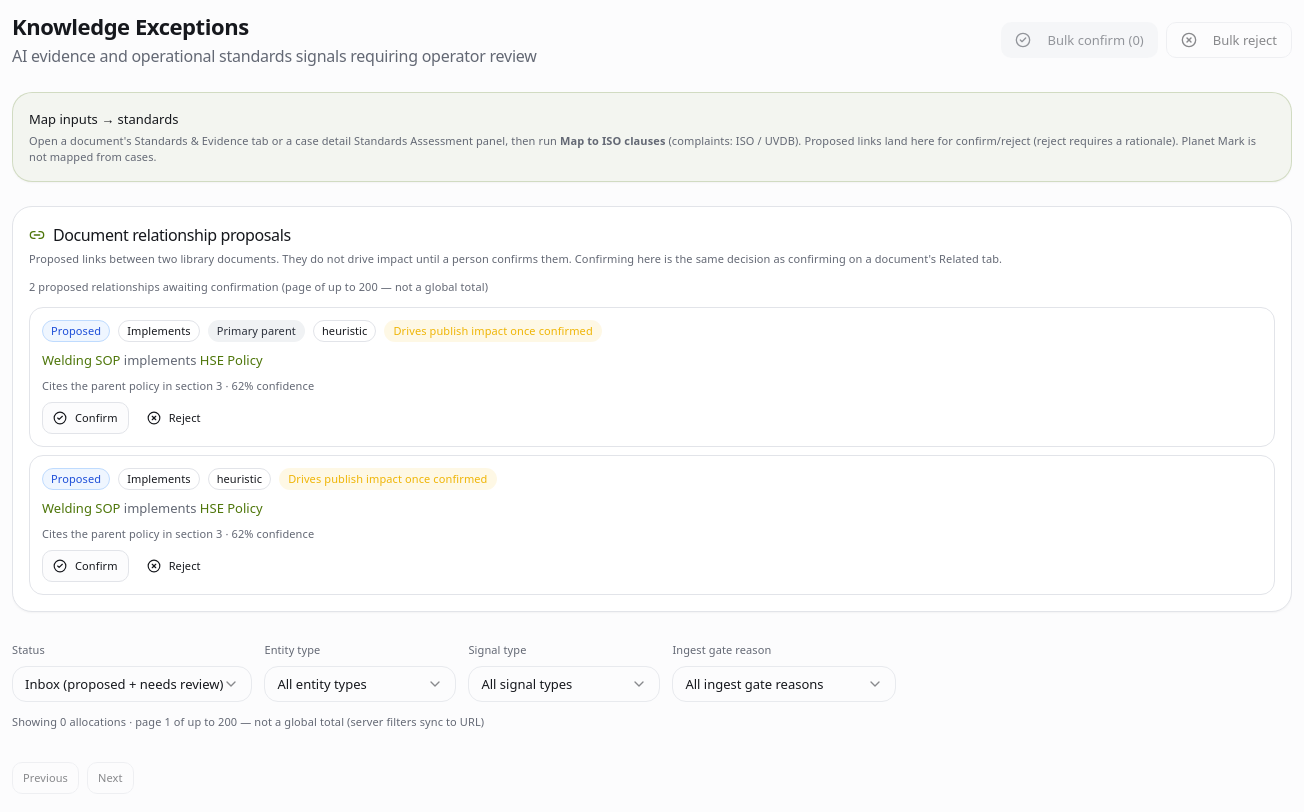
Test: KnowledgeExceptions Doc Graph queue (WE-1) › holds every other decision while one is in flight, so no click lands on a stale list
The image size is (1304, 812).
Click the button with test id "graph-proposal-confirm-31".
click(85, 418)  # box [42, 402, 129, 434]
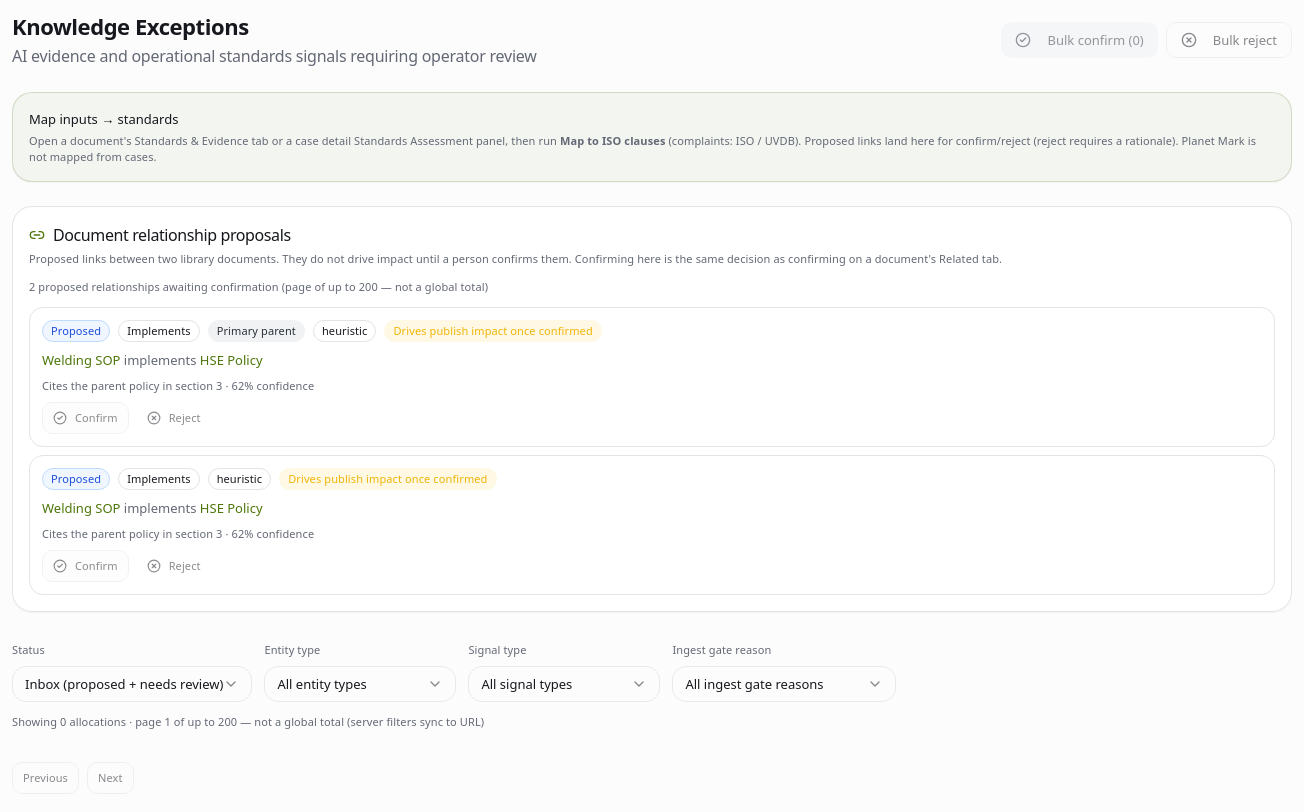
Now the button with test id "graph-proposal-confirm-32" is disabled
Now the button with test id "graph-proposal-reject-32" is disabled, box [137, 550, 211, 582]
Click the button with test id "graph-proposal-confirm-32".
click(85, 566)  # box [42, 550, 129, 582]
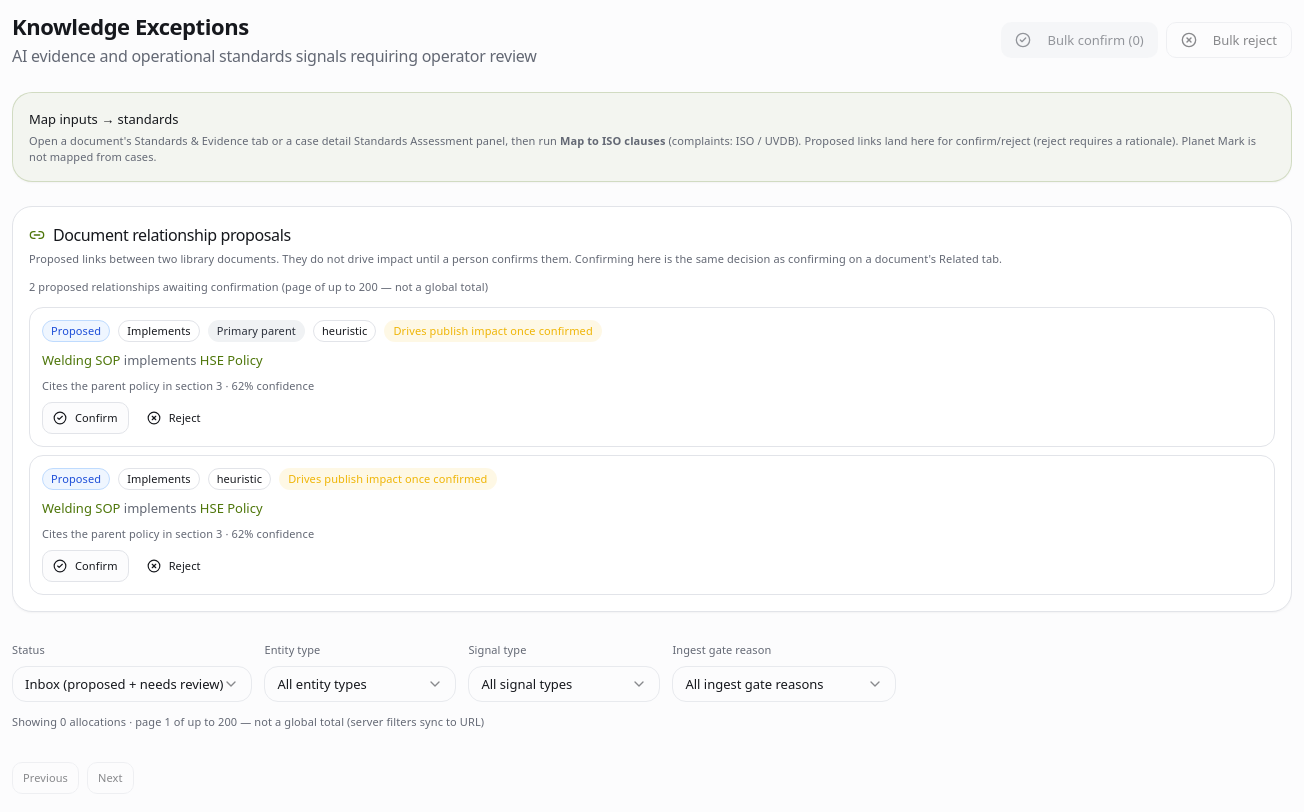
Now the button with test id "graph-proposal-confirm-32" is enabled, box [42, 550, 129, 582]
